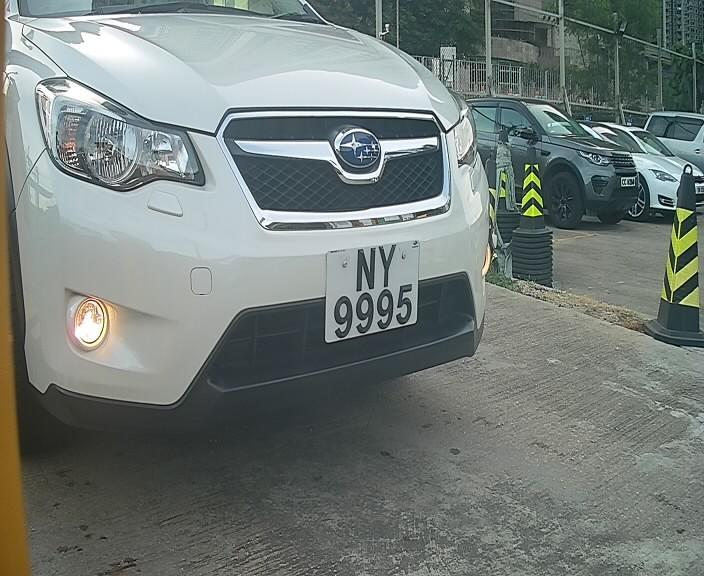privatecar: (4, 3, 529, 453)
